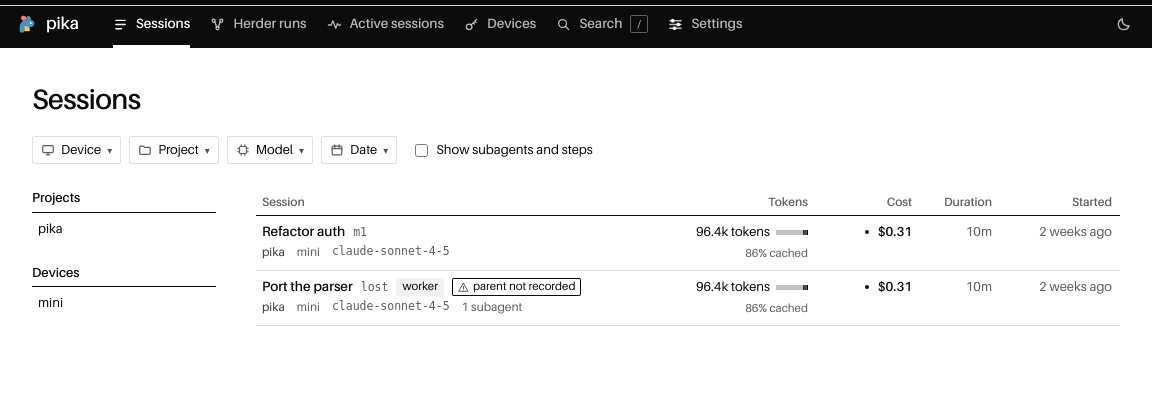
Test case: session list › lists a subagent whose parent is not recorded at the top, tagged, with its own family
Expected: the text "Port the parser" is shown, [262, 277, 353, 297]
Expected: the text "worker" is shown, [402, 281, 438, 293]
Click the checkbox labelled "Show subagents and steps" at {"x": 422, "y": 150}, box [415, 144, 428, 157]
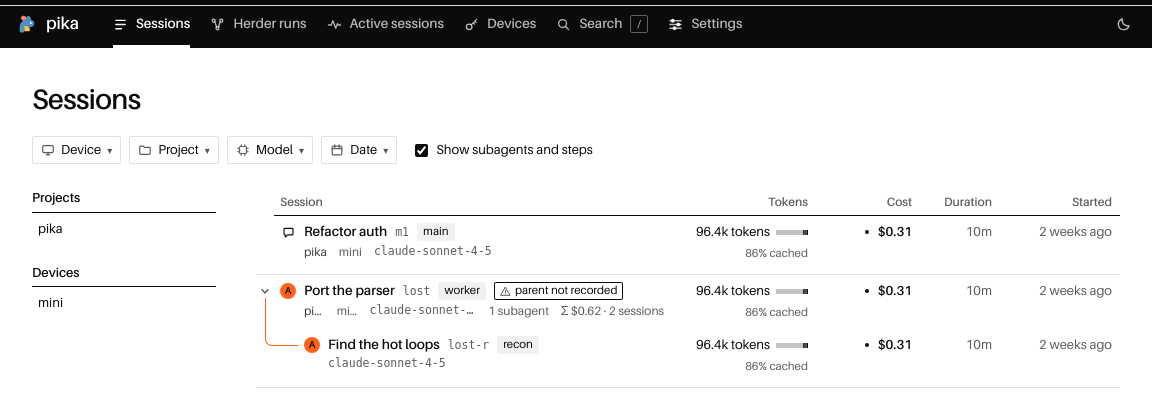
Expected: the text "worker" is shown, [444, 285, 480, 297]
Expected: the text "main" is shown, [423, 226, 448, 238]
Expected: the text "recon" is shown, [503, 339, 533, 351]
